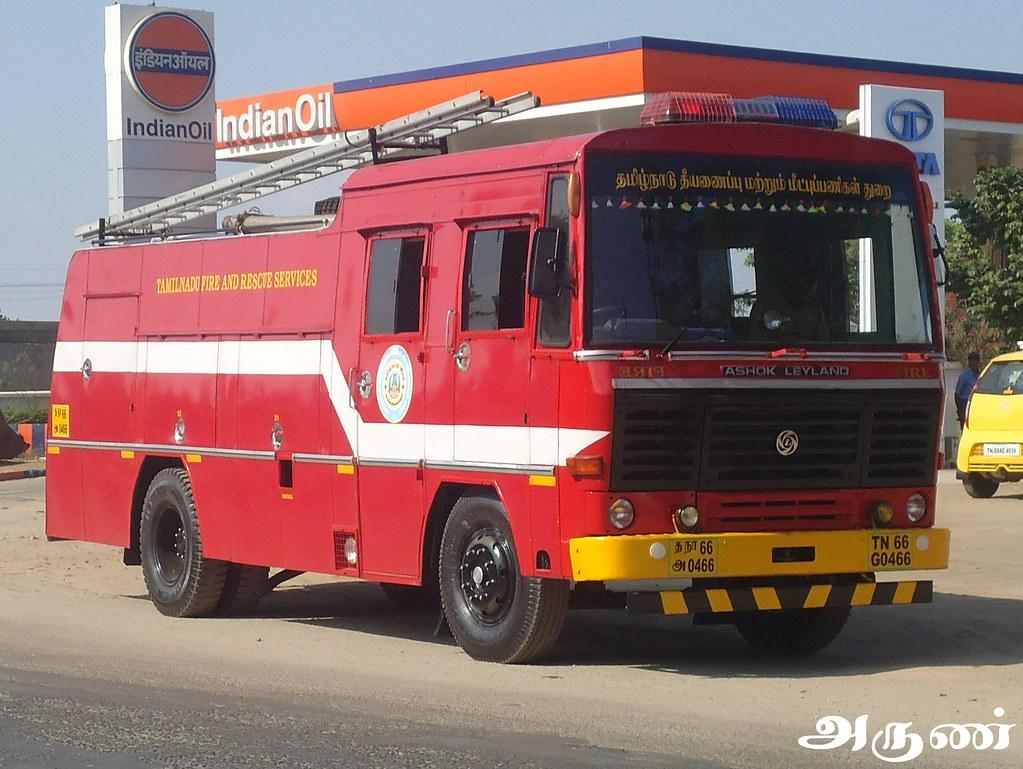Fire-engine: (51, 99, 964, 649)
